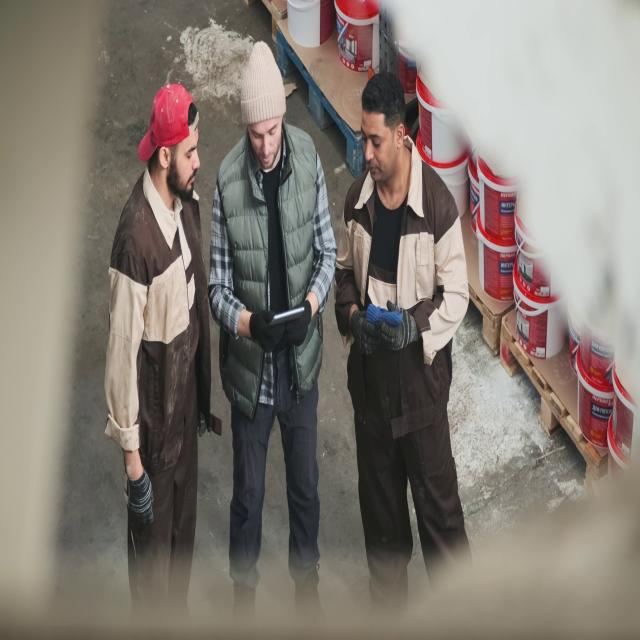gloved: (378, 300, 418, 352), (123, 469, 154, 536), (249, 309, 285, 353), (350, 308, 381, 356), (286, 299, 312, 346)
